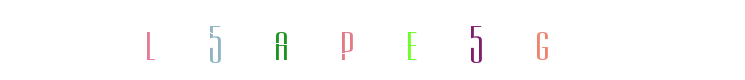5: (241, 0, 321, 80), (436, 0, 516, 80)
A: (254, 0, 334, 80)
E: (366, 0, 446, 80)
G: (501, 0, 581, 80)
L: (179, 0, 259, 80)
P: (332, 0, 412, 80)
